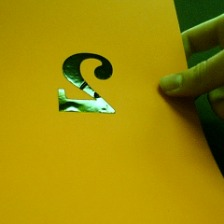orange2: (49, 47, 122, 119)
